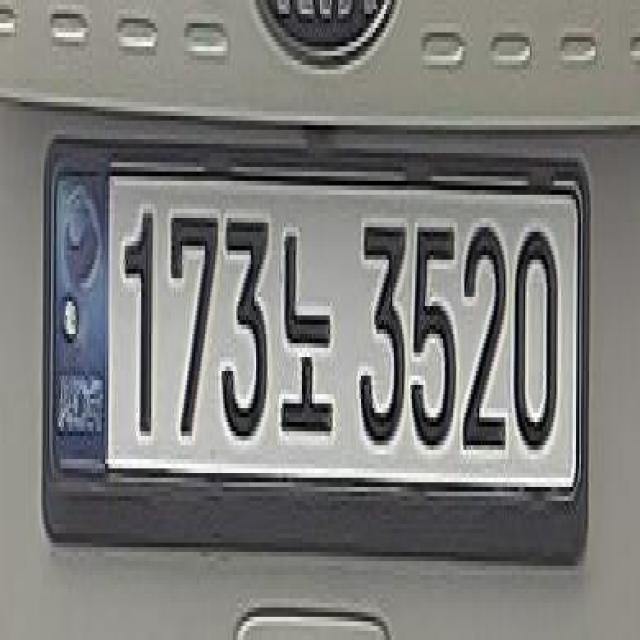illegal_plate: (37, 132, 596, 536)
